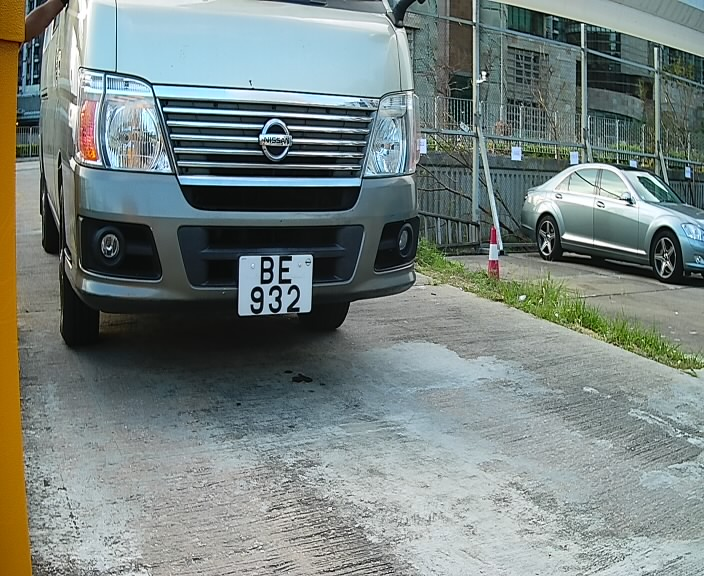Car: (31, 0, 419, 393)
License Plate: (232, 245, 322, 327)
